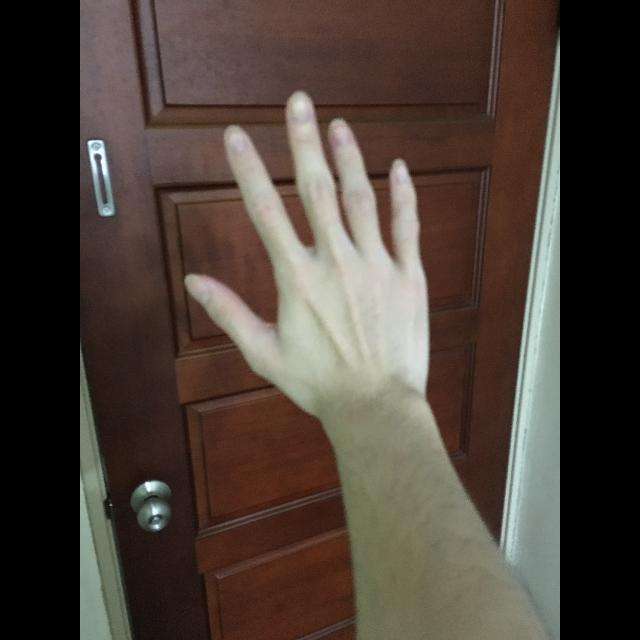bare_hand: (182, 85, 432, 408)
